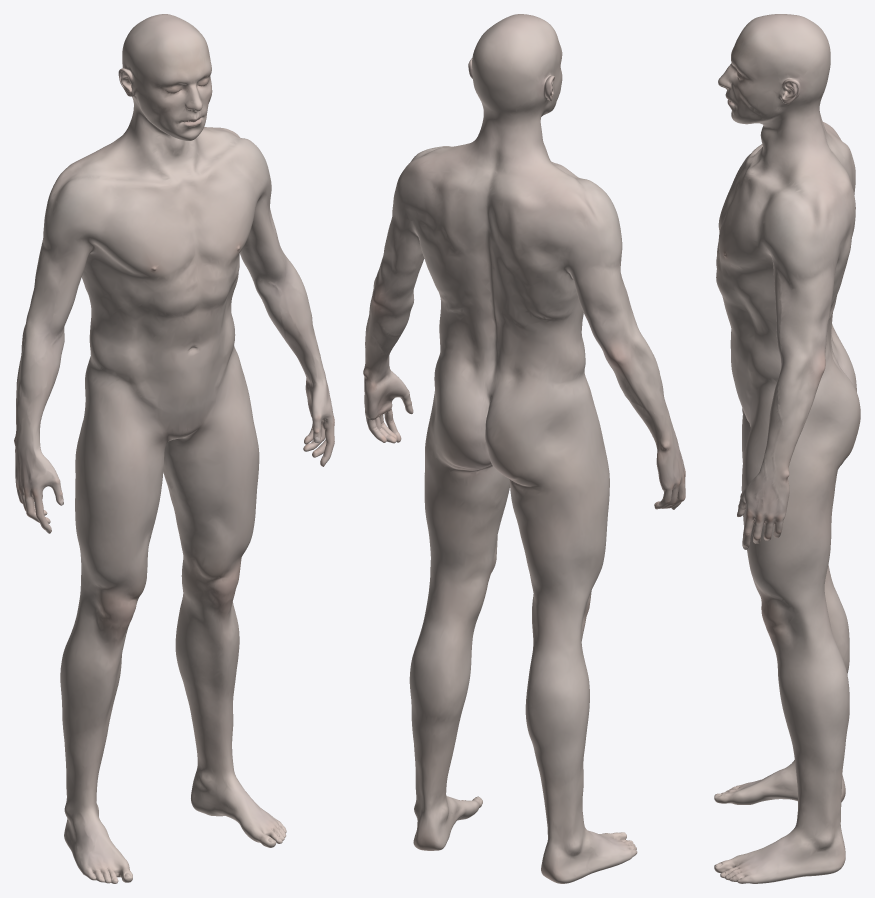
The model's file is patient-v2.glb.
3 renders of one model, left to right at view 1: azimuth 30°, elevation 25°; view 2: azimuth 150°, elevation 25°; view 3: azimuth 270°, elevation 25°, orthographic.
Parts seen in each view (by area): view 1: Object_2; view 2: Object_2; view 3: Object_2.
Part boxes in pixels (x1,y1,x2,y2): Object_2: [14, 14, 334, 883]; Object_2: [363, 14, 685, 883]; Object_2: [714, 14, 860, 883].
Bounding box in the file's own units: 3.76 × 9.54 × 1.54.
